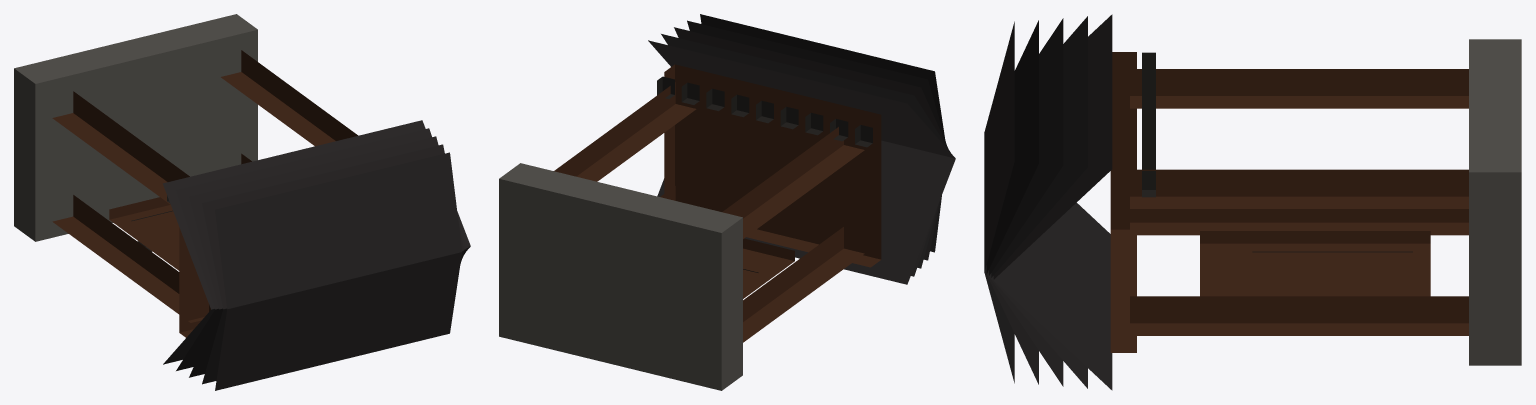
Rendered from Shrine_LOD0.obj.
The picture shows the model from 3 angles, left to right: view 1: azimuth 30°, elevation 25°; view 2: azimuth 150°, elevation 25°; view 3: azimuth 270°, elevation 25°; orthographic projection. The views are drawn at different scales.
Bounding box in the file's own units: 2.1 × 1.4 × 3.07.
